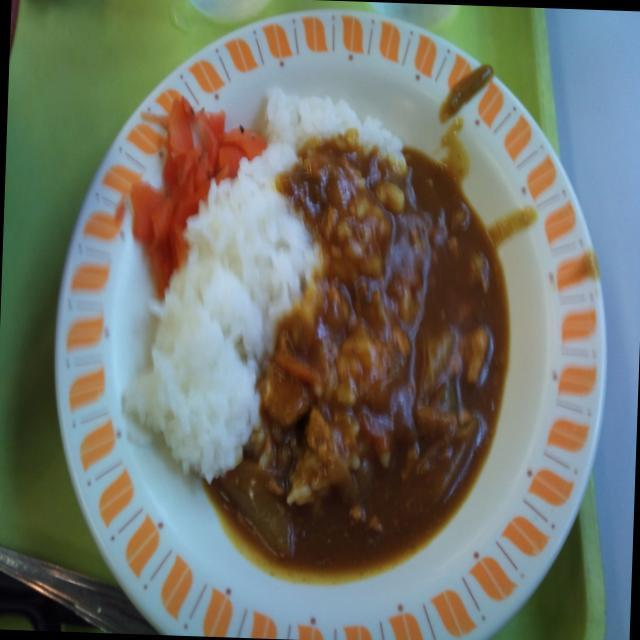Beef Curry: (268, 154, 504, 566)
